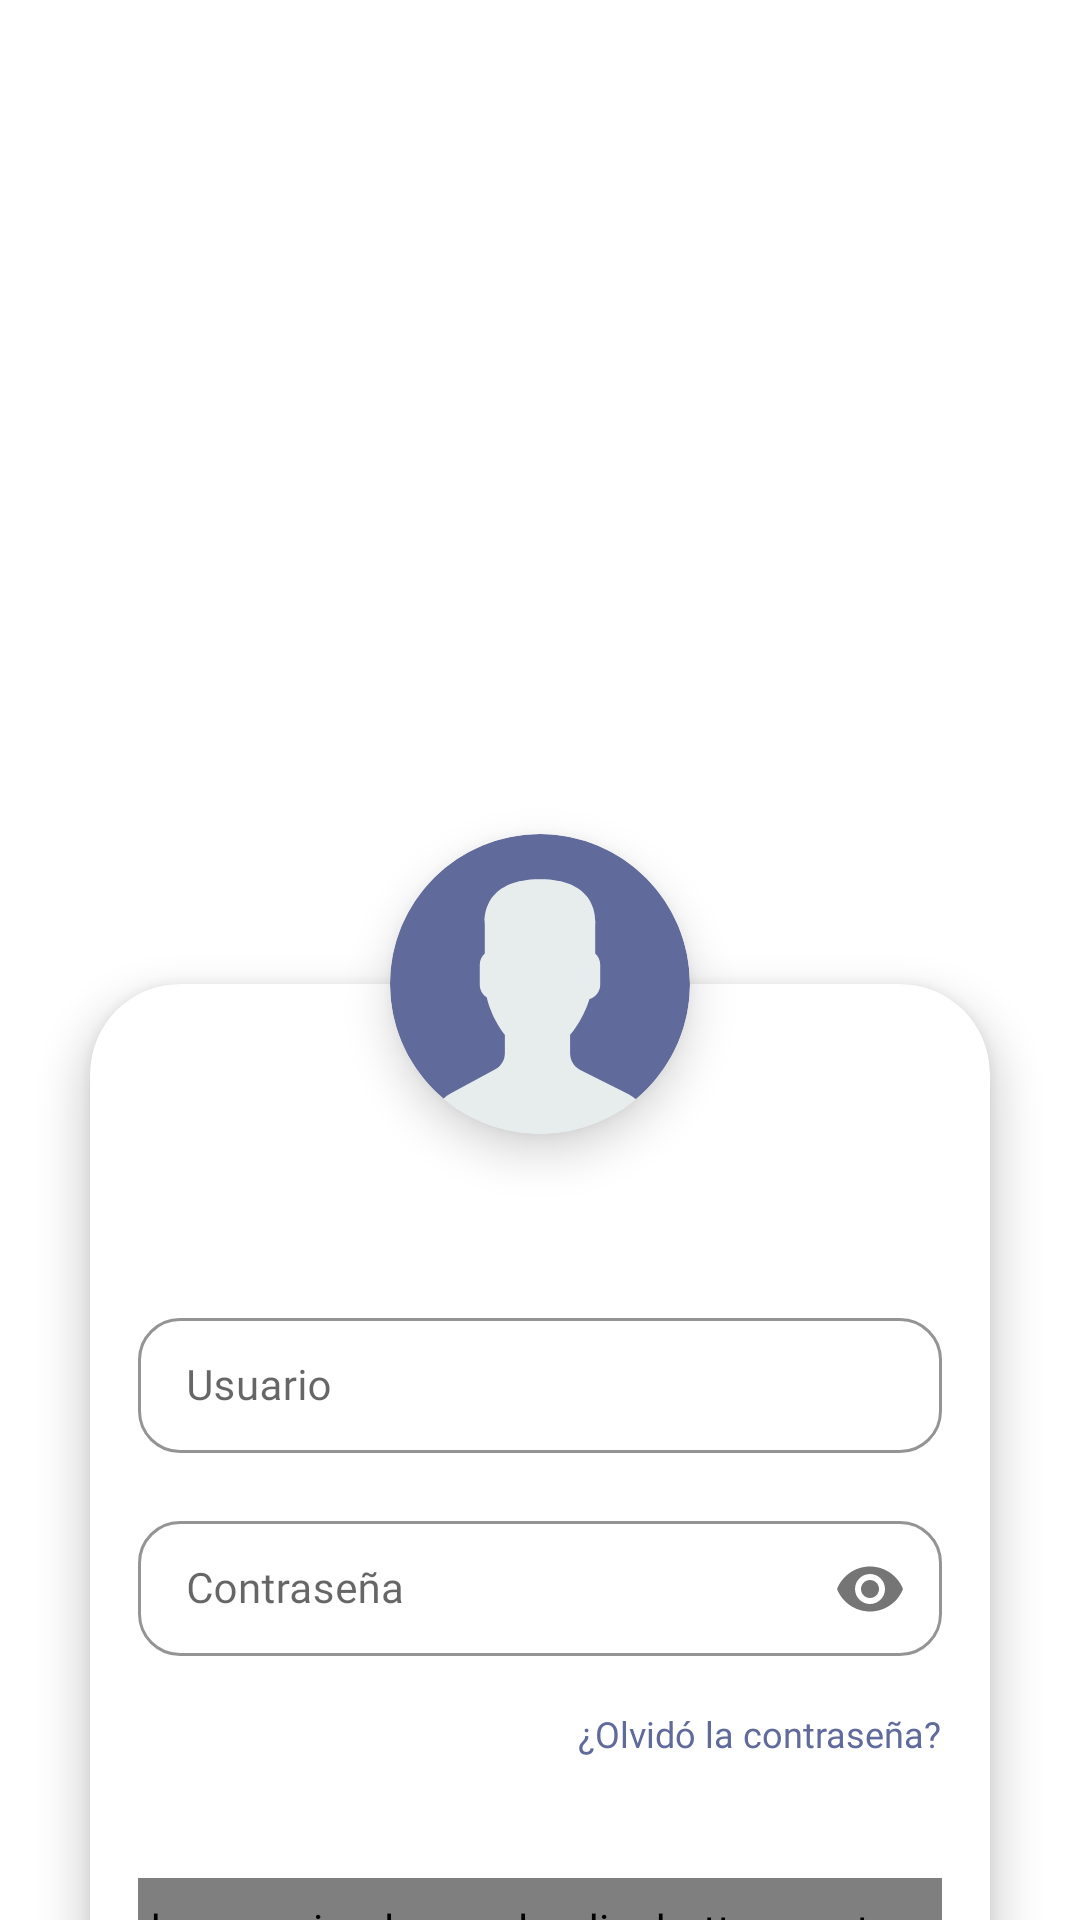

Icon click points for this 1080px x 1920px phone screenshot, format (x=x, y=y):
user: (x=540, y=984)
